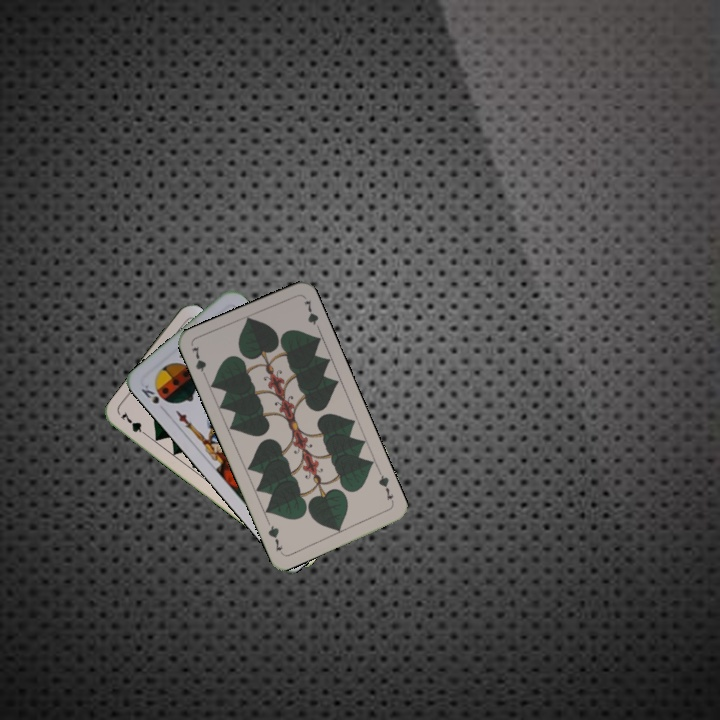G7: (117, 408, 152, 440), (374, 468, 397, 507), (188, 342, 210, 382)
SK: (137, 381, 171, 406)
